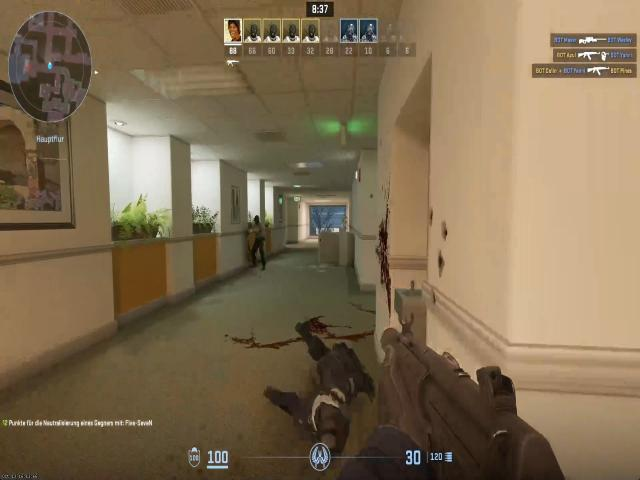Dead: (281, 328, 372, 456)
T: (249, 209, 267, 249)
T-Head: (255, 214, 262, 230)
